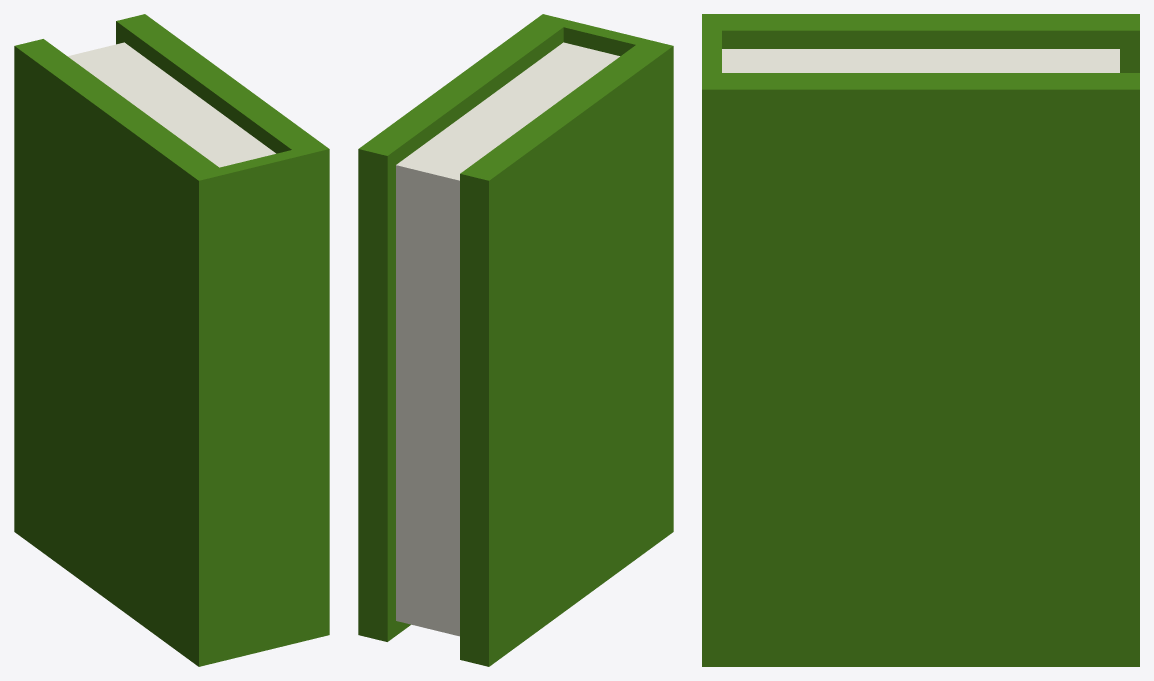
Rendered from Book_Green_Dark.fbx.
3 renders of one model, left to right at view 1: azimuth 30°, elevation 25°; view 2: azimuth 150°, elevation 25°; view 3: azimuth 270°, elevation 25°, orthographic. The views are drawn at different scales.
Visible parts, largest first — view 1: pCube12; view 2: pCube12; view 3: pCube12.
Part boxes in pixels (box(x1,y1,x2,y2)): pCube12: box(14, 14, 329, 666); pCube12: box(358, 14, 673, 666); pCube12: box(702, 14, 1139, 666).
Bounding box in the file's own units: 9 × 32 × 22.
